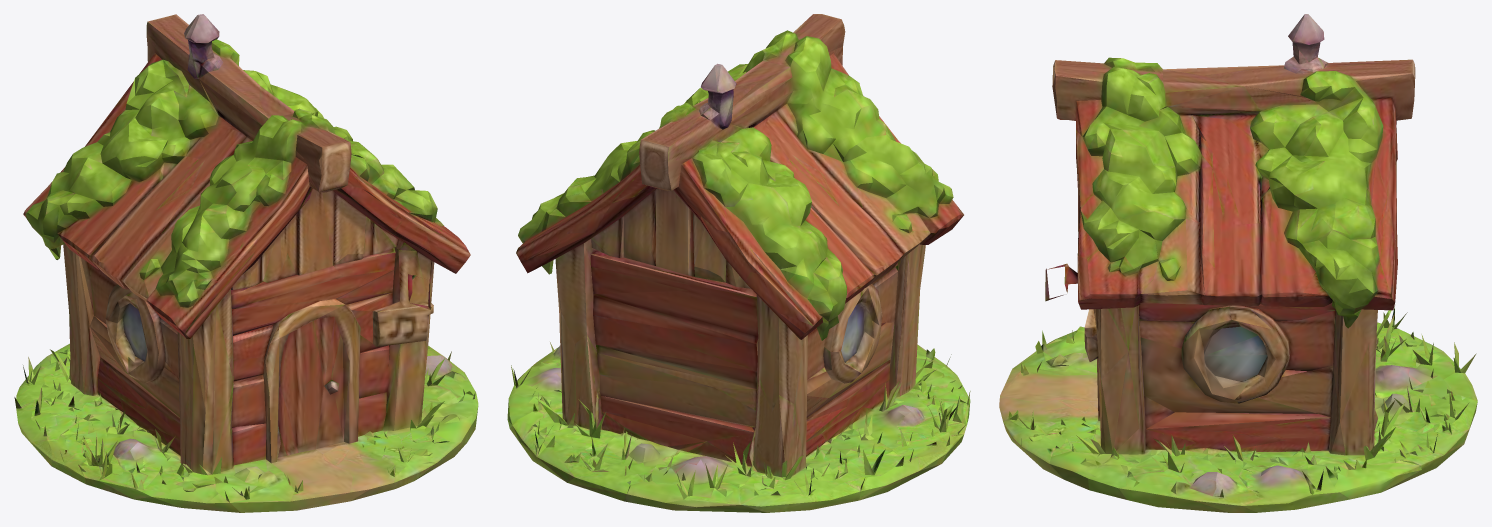
Rendered from shed.glb.
3 views of the same model, side by side, from view 1: azimuth 30°, elevation 25°; view 2: azimuth 150°, elevation 25°; view 3: azimuth 270°, elevation 25° (orthographic). The views are drawn at different scales.
Bounding box in the file's own units: 1.89 × 1.71 × 1.9.
1 material, 1 textured.
